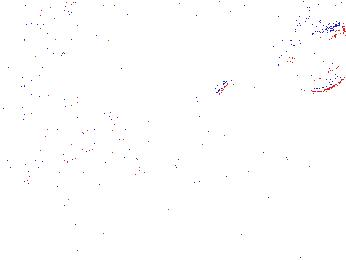moon jellyfish: (151, 14, 232, 85), (278, 22, 346, 94), (21, 47, 98, 108)
